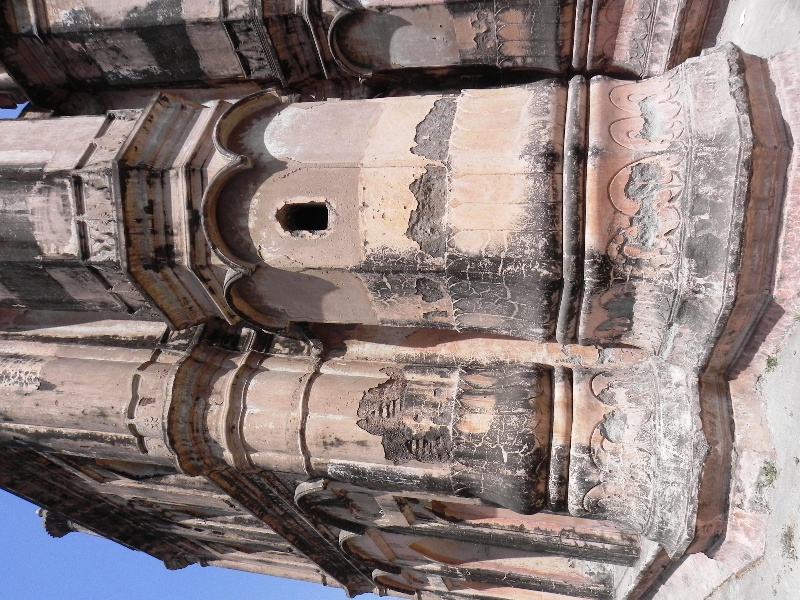Spalling: (403, 94, 460, 322), (356, 372, 445, 463), (631, 95, 667, 142)
